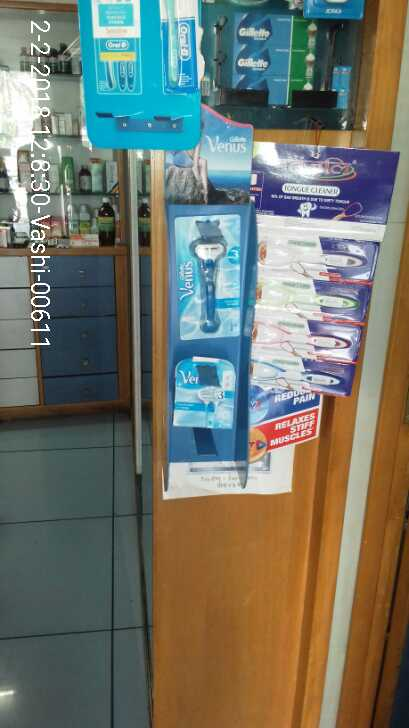beauty: (174, 198, 248, 344), (221, 11, 317, 94), (167, 353, 241, 422)
